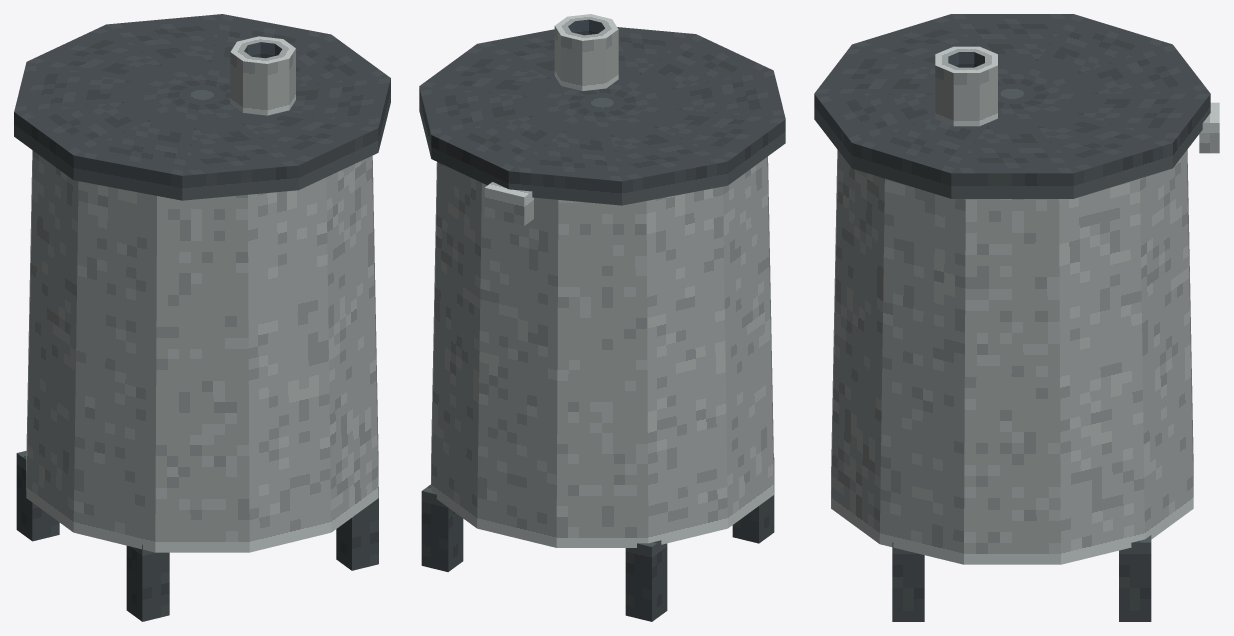
The model's file is f_kiln_metal_empty.glb.
The picture shows the model from 3 angles, left to right: view 1: azimuth 30°, elevation 25°; view 2: azimuth 150°, elevation 25°; view 3: azimuth 270°, elevation 25°; orthographic projection. The views are drawn at different scales.
Visible parts, largest first — view 1: block_sealed-charcoal-chamber, block_kiln-ring-lid, block_leg--0.2122-0.19300000000000003, block_leg-0.2122-0.19300000000000003, block_leg--0.2122--0.19300000000000003, block_gas-vent-neck-outer-2, block_gas-vent-neck-outer-1, block_gas-vent-neck-outer-3; view 2: block_sealed-charcoal-chamber, block_kiln-ring-lid, block_leg--0.2122--0.19300000000000003, block_leg-0.2122--0.19300000000000003, block_kiln-lid-latch, block_leg--0.2122-0.19300000000000003, block_gas-vent-neck-outer-4, block_gas-vent-neck-outer-5, block_gas-vent-neck-outer-3; view 3: block_sealed-charcoal-chamber, block_kiln-ring-lid, block_leg-0.2122--0.19300000000000003, block_leg-0.2122-0.19300000000000003, block_gas-vent-neck-outer-7, block_gas-vent-neck-outer-6, block_gas-vent-neck-outer-0, block_kiln-lid-latch.
Part boxes in pixels (x1=…): block_sealed-charcoal-chamber: x1=26, y1=150, x2=378, y2=552; block_kiln-ring-lid: x1=14, y1=14, x2=390, y2=200; block_leg--0.2122-0.19300000000000003: x1=126, y1=544, x2=169, y2=621; block_leg-0.2122-0.19300000000000003: x1=336, y1=487, x2=378, y2=570; block_leg--0.2122--0.19300000000000003: x1=16, y1=450, x2=59, y2=541; block_gas-vent-neck-outer-2: x1=243, y1=61, x2=267, y2=115; block_gas-vent-neck-outer-1: x1=267, y1=59, x2=289, y2=115; block_gas-vent-neck-outer-3: x1=230, y1=52, x2=242, y2=112; block_sealed-charcoal-chamber: x1=431, y1=156, x2=773, y2=547; block_kiln-ring-lid: x1=419, y1=27, x2=785, y2=205; block_leg--0.2122--0.19300000000000003: x1=625, y1=540, x2=667, y2=621; block_leg-0.2122--0.19300000000000003: x1=421, y1=484, x2=463, y2=571; block_kiln-lid-latch: x1=484, y1=182, x2=533, y2=225; block_leg--0.2122-0.19300000000000003: x1=732, y1=458, x2=774, y2=543; block_gas-vent-neck-outer-4: x1=582, y1=38, x2=606, y2=90; block_gas-vent-neck-outer-5: x1=561, y1=35, x2=582, y2=90; block_gas-vent-neck-outer-3: x1=606, y1=29, x2=618, y2=87; block_sealed-charcoal-chamber: x1=831, y1=149, x2=1193, y2=564; block_kiln-ring-lid: x1=814, y1=14, x2=1210, y2=198; block_leg-0.2122--0.19300000000000003: x1=1119, y1=535, x2=1151, y2=621; block_leg-0.2122-0.19300000000000003: x1=892, y1=542, x2=924, y2=621; block_gas-vent-neck-outer-7: x1=953, y1=73, x2=979, y2=126; block_gas-vent-neck-outer-6: x1=979, y1=65, x2=997, y2=125; block_gas-vent-neck-outer-0: x1=935, y1=65, x2=953, y2=125; block_kiln-lid-latch: x1=1199, y1=102, x2=1219, y2=153.
Size of the model in its own units: 0.6429 by 0.982 by 0.6915.
1 material, 1 textured.
